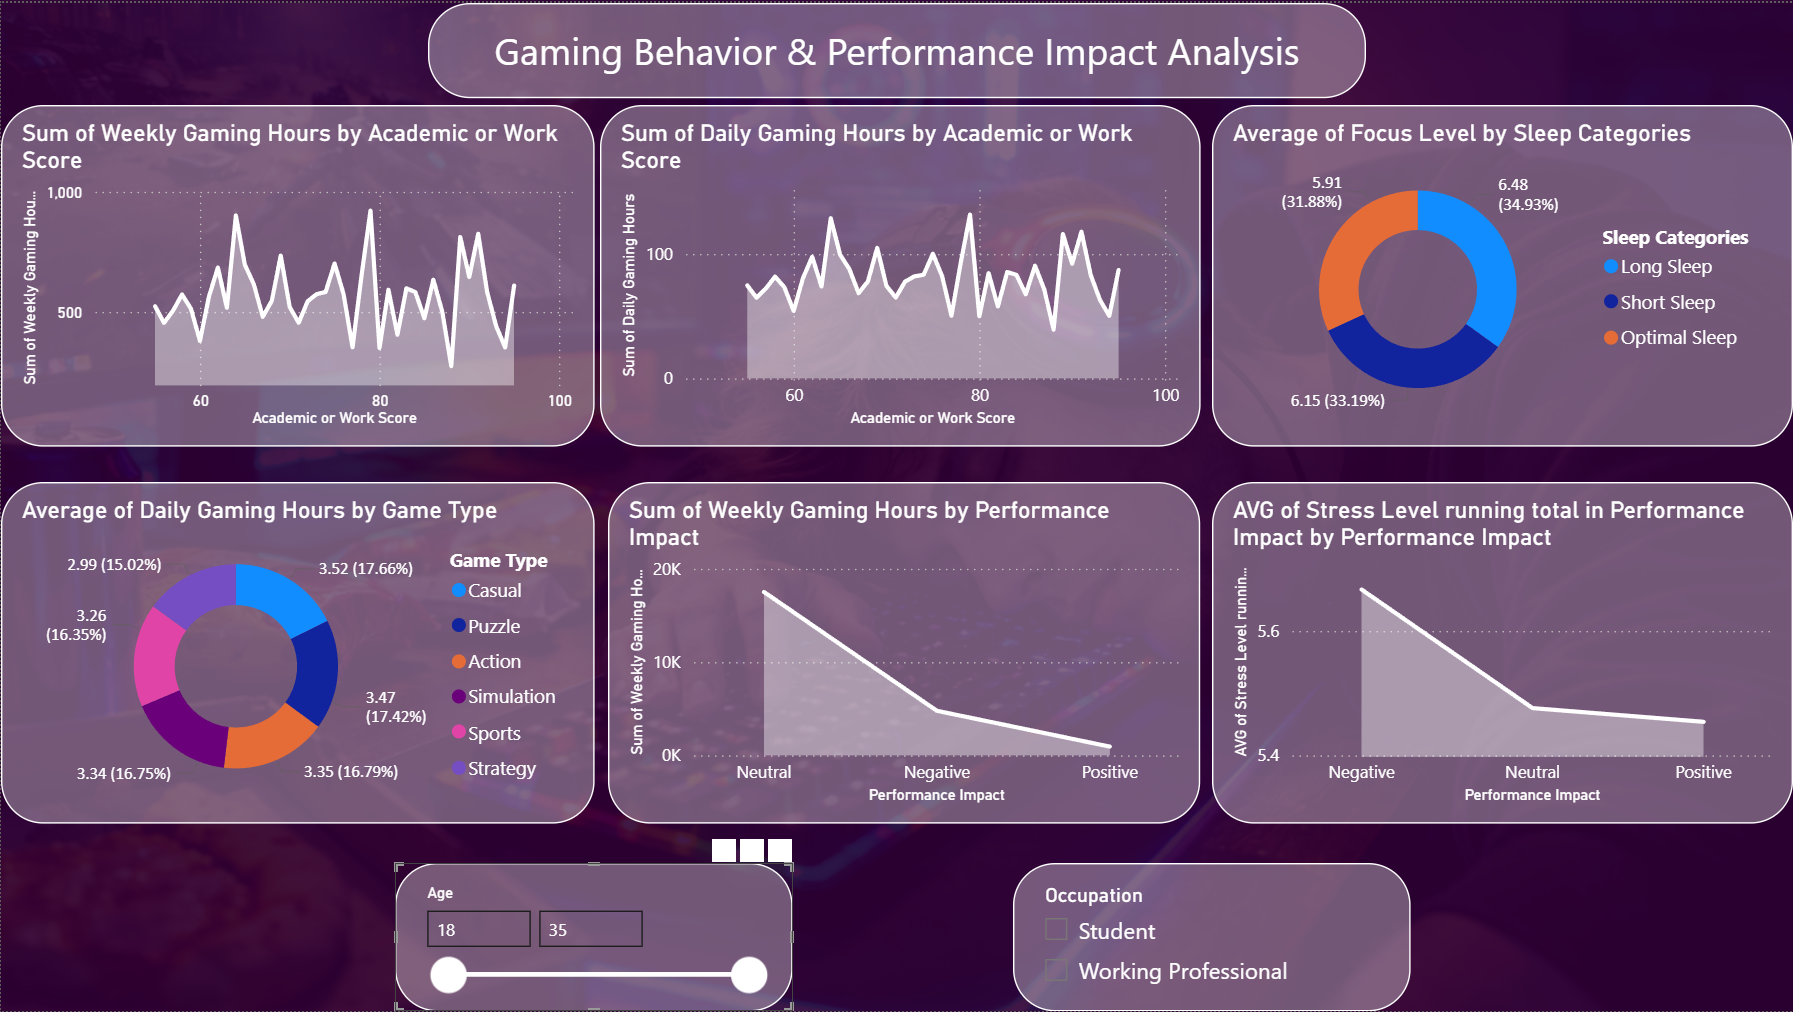

The dashboard page shown, as its layout file describes it:
{"tool":"powerbi","page":{"name":"Page 2","canvas":[1280,720],"ordinal":1},"visuals":[{"type":"stackedAreaChart","title":"Sum of Weekly Gaming Hours by Academic or Work Score","fields":{"Category":["cleaned_gaming_hours.Academic_or_Work_Score"],"Y":["Sum(cleaned_gaming_hours.Weekly_Gaming_Hours)"]},"box":[0,72.9,423.6,244.3],"z":0},{"type":"areaChart","fields":{"Category":["cleaned_gaming_hours.Academic_or_Work_Score"],"Y":["Sum(cleaned_gaming_hours.Daily_Gaming_Hours)"]},"box":[427.9,72.9,428.6,244.3],"z":1000},{"type":"donutChart","fields":{"Category":["cleaned_gaming_hours.Game_Type"],"Y":["Avg(cleaned_gaming_hours.Daily_Gaming_Hours)"]},"box":[0,342.1,423.6,244.3],"z":2000},{"type":"donutChart","fields":{"Category":["cleaned_gaming_hours.Sleep_Categories"],"Y":["Avg(cleaned_gaming_hours.Focus_Level)"]},"box":[865,72.9,415,244.3],"z":3000},{"type":"stackedAreaChart","fields":{"Y":["cleaned_gaming_hours.Average of Stress_Level running total in Performance_Impact"],"Category":["cleaned_gaming_hours.Performance_Impact"]},"box":[865,342.1,415,244.3],"z":4000},{"type":"stackedAreaChart","fields":{"Category":["cleaned_gaming_hours.Performance_Impact"],"Y":["Sum(cleaned_gaming_hours.Weekly_Gaming_Hours)"]},"box":[433.6,342.1,422.9,244.3],"z":5000},{"type":"textbox","box":[305,0,670,67.9],"z":6000},{"type":"slicer","fields":{"Values":["cleaned_gaming_hours.Occupation"]},"box":[722.9,614.3,284.3,105.7],"z":7000},{"type":"slicer","fields":{"Values":["cleaned_gaming_hours.Age"]},"box":[281.4,614.3,284.3,105.7],"z":8000}]}

Visuals, with their boxes in screenshot pixels (x1, y1, x2, y2), scaled from the page's 1280x720 canvas onto the 1793x1012 screenshot:
"Sum of Weekly Gaming Hours by Academic or Work Score" stackedAreaChart: <bbox>0, 102, 593, 446</bbox>
areaChart - cleaned_gaming_hours.Academic_or_Work_Score x Sum(cleaned_gaming_hours.Daily_Gaming_Hours): <bbox>599, 102, 1200, 446</bbox>
donutChart - cleaned_gaming_hours.Game_Type x Avg(cleaned_gaming_hours.Daily_Gaming_Hours): <bbox>0, 481, 593, 824</bbox>
donutChart - cleaned_gaming_hours.Sleep_Categories x Avg(cleaned_gaming_hours.Focus_Level): <bbox>1212, 102, 1792, 446</bbox>
stackedAreaChart - cleaned_gaming_hours.Average of Stress_Level running total in Performance_Impact x cleaned_gaming_hours.Performance_Impact: <bbox>1212, 481, 1792, 824</bbox>
stackedAreaChart - cleaned_gaming_hours.Performance_Impact x Sum(cleaned_gaming_hours.Weekly_Gaming_Hours): <bbox>607, 481, 1200, 824</bbox>
textbox: <bbox>427, 0, 1366, 95</bbox>
slicer - cleaned_gaming_hours.Occupation: <bbox>1013, 863, 1411, 1011</bbox>
slicer - cleaned_gaming_hours.Age: <bbox>394, 863, 792, 1011</bbox>
